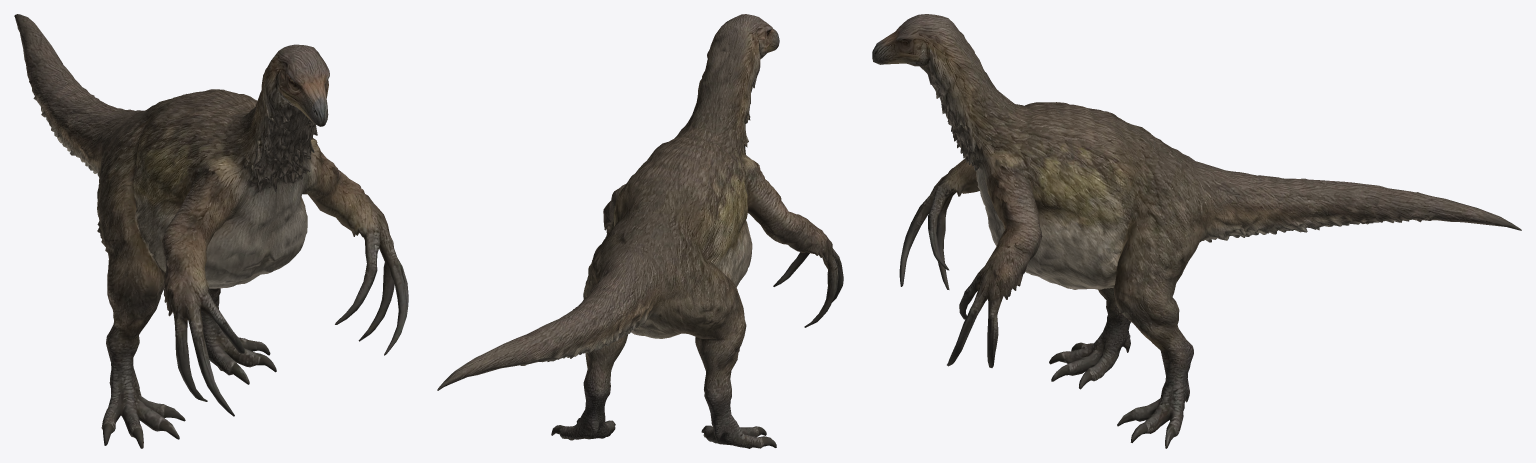
File: therizinosaurus.glb
3 views of the same model, side by side, from view 1: azimuth 30°, elevation 25°; view 2: azimuth 150°, elevation 25°; view 3: azimuth 270°, elevation 25° (orthographic). The views are drawn at different scales.
Parts seen in each view (by area): view 1: dino; view 2: dino; view 3: dino.
Part boxes in pixels (<box>): dino: <box>14,14,408,448</box>; dino: <box>437,14,843,448</box>; dino: <box>872,14,1521,448</box>.
Size of the model in its own units: 4.01 by 6.61 by 9.99.
1 material, 1 textured.
